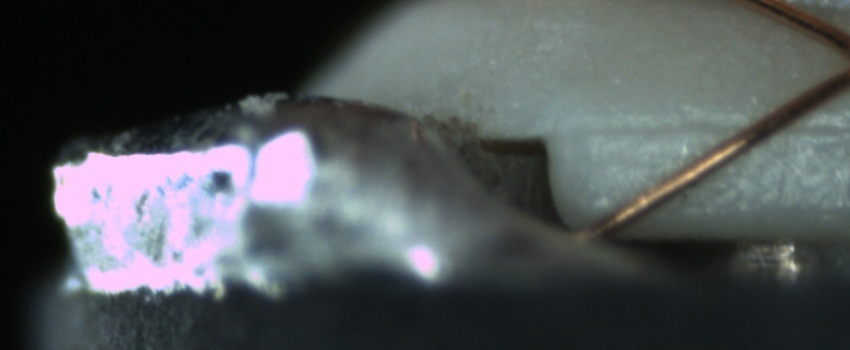DL: (584, 95, 838, 162)
